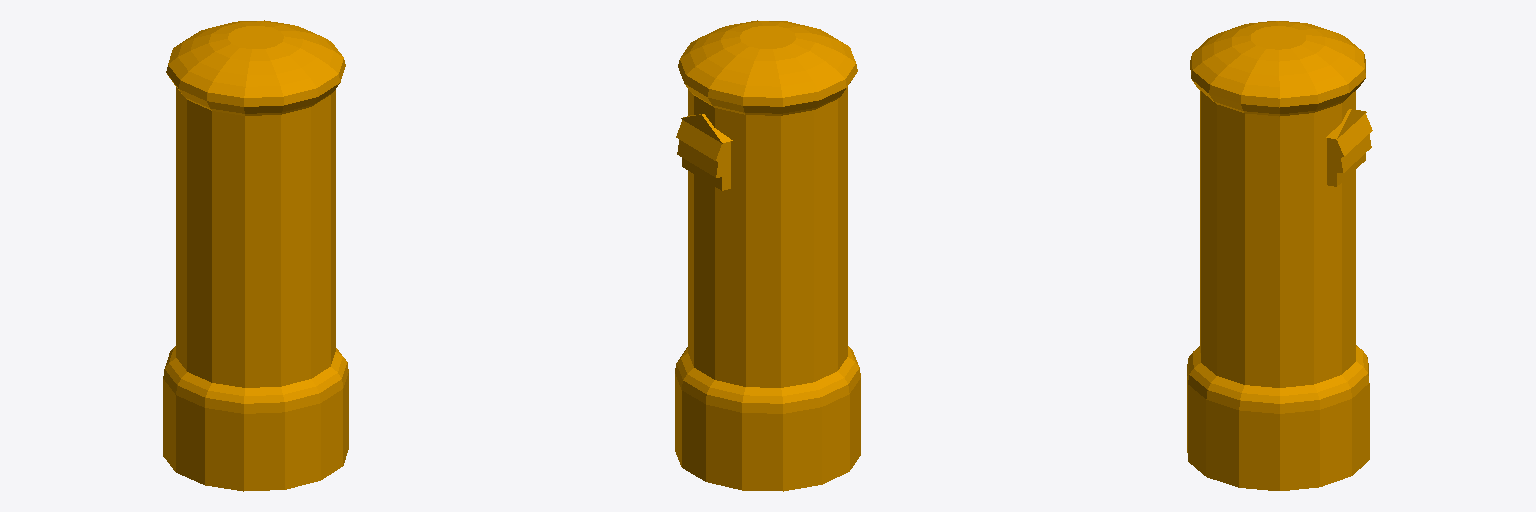
The robot description file, URDF, robot "mesh_object":
<robot name="mesh_object">
            <link name="base">
                <visual>
                    <geometry>
                        <mesh filename="postbox_(public)_1.obj" scale="1 1 1" />
                    </geometry>
                </visual>
                <collision>
                    <geometry>
                        <mesh filename="postbox_(public)_1.obj" scale="1 1 1" />
                    </geometry>
                </collision>
                <inertial>
                    <origin xyz="0.000000 0.000000 0.078681" rpy="0 0 0" />
                    <mass value="0.5" />
                    <inertia ixx="0.01" iyy="0.01" izz="0.01" ixy="0" ixz="0" iyz="0" />
                </inertial>
            </link>
            </robot>

--- Render facts (derived) ---
3 views of the same robot in one strip: view 1: azimuth 30°, elevation 25°; view 2: azimuth 150°, elevation 25°; view 3: azimuth 270°, elevation 25° (orthographic).
Model mesh_object with 1 links and 0 joints (none), rooted at base, posed every joint at zero.
Visible links, largest first — view 1: base; view 2: base; view 3: base.
Link boxes in pixels (x1,y1,x2,y2): base: (163, 20, 348, 491); base: (675, 20, 860, 491); base: (1187, 21, 1372, 490).
Bounding box of the posed robot: 0.0641 × 0.0639 × 0.1574 m (x, y, z).
1 mesh visuals loaded from 1 distinct referenced files (1 OBJ).
